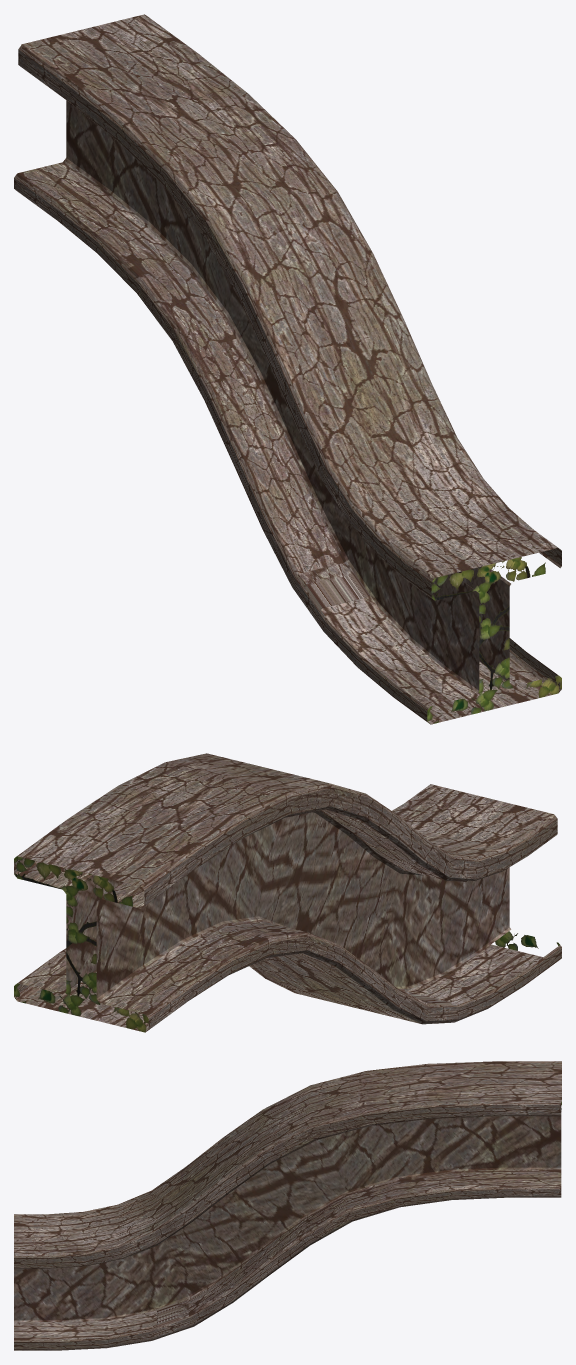
Rendered from balk_s.FBX.
The picture shows the model from 3 angles, top to bottom: view 1: azimuth 30°, elevation 25°; view 2: azimuth 150°, elevation 25°; view 3: azimuth 270°, elevation 25°; orthographic projection. The views are drawn at different scales.
Parts seen in each view (by area): view 1: balk_s; view 2: balk_s; view 3: balk_s.
Boxes of the visible parts, x1,y1,x2,y2 form: balk_s: (14,14,561,724); balk_s: (14,753,561,1032); balk_s: (14,1061,561,1350).
Size of the model in its own units: 3.1 by 16.48 by 8.27.
